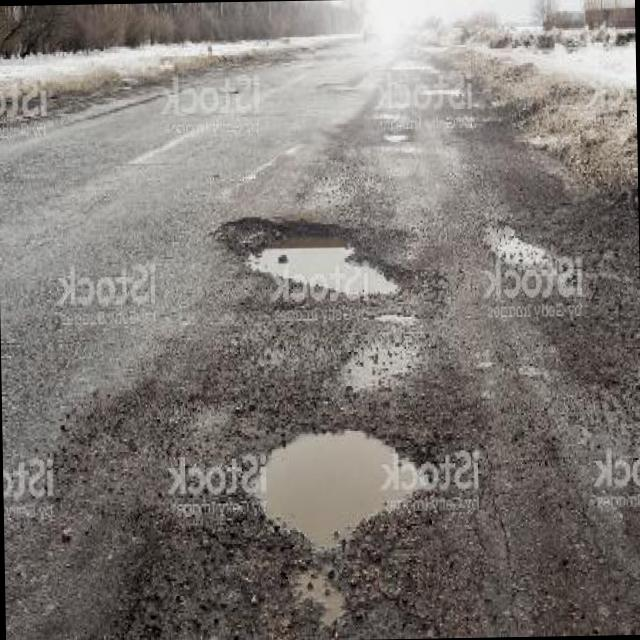Lubang: (258, 431, 438, 547), (216, 217, 398, 303)
